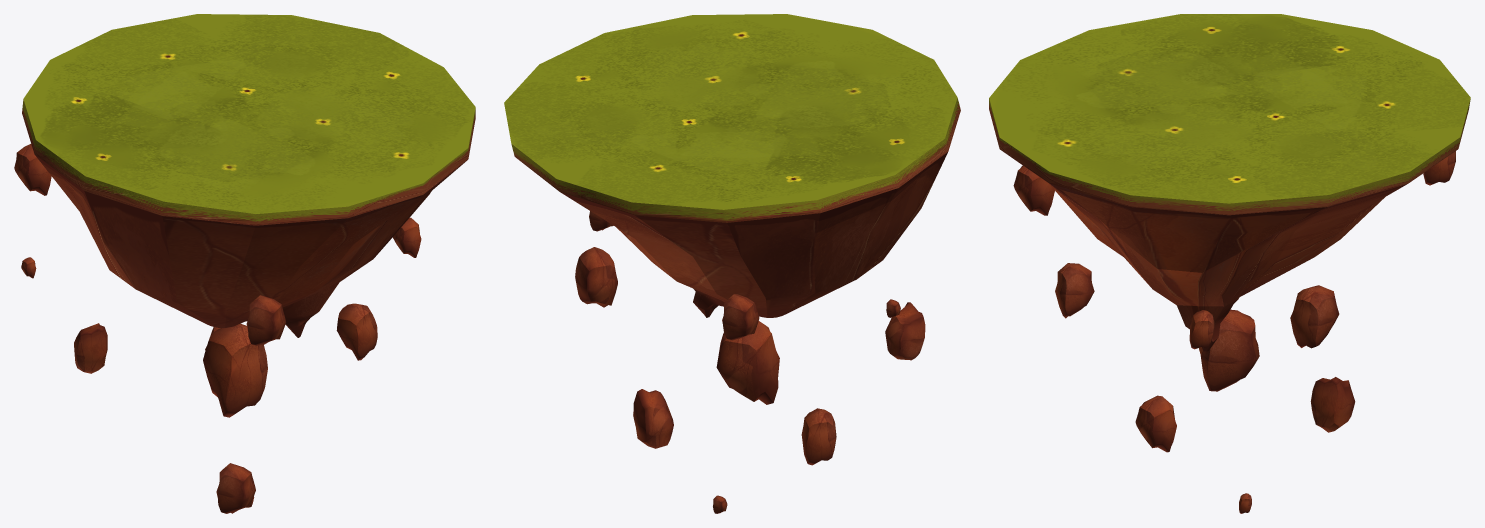
Rendered from GRASS_ARENA_FBX.fbx.
The picture shows the model from 3 angles, left to right: view 1: azimuth 30°, elevation 25°; view 2: azimuth 150°, elevation 25°; view 3: azimuth 270°, elevation 25°; orthographic projection.
Parts seen in each view (by area): view 1: polySurface1; view 2: polySurface1; view 3: polySurface1.
Boxes of the visible parts, x1,y1,x2,y2 form: polySurface1: (14, 14, 475, 513); polySurface1: (504, 14, 960, 513); polySurface1: (989, 14, 1470, 513).
Bounding box in the file's own units: 167 × 163 × 176.
